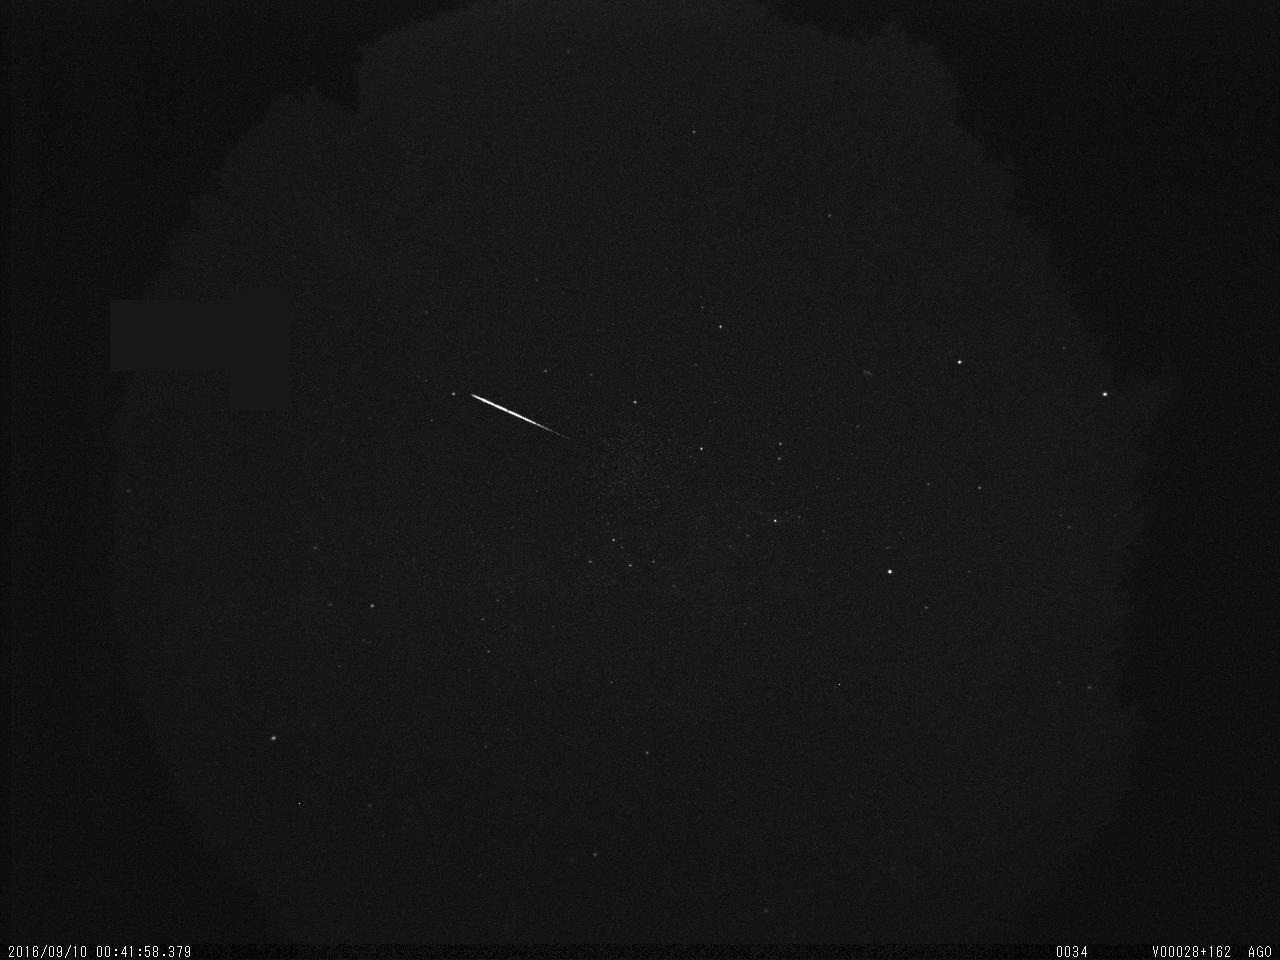Meteor: (468, 390, 570, 443)
